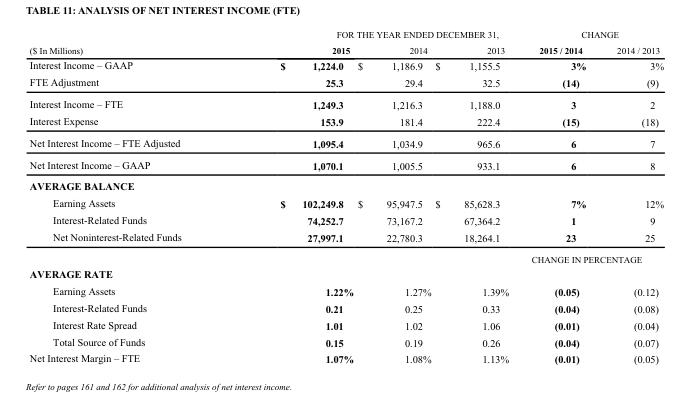table: (28, 28, 663, 364)
table column: (28, 28, 230, 364), (230, 28, 355, 364), (432, 28, 519, 364), (519, 28, 600, 364), (355, 28, 432, 364), (600, 28, 663, 364)
table column header: (28, 28, 663, 56)
table projected row header: (28, 175, 663, 194), (28, 265, 663, 282)
table row: (28, 131, 663, 153), (28, 153, 663, 175), (28, 92, 663, 112), (28, 228, 663, 248), (28, 73, 663, 92), (28, 112, 663, 131), (28, 175, 663, 194), (28, 56, 663, 73), (28, 194, 663, 211), (28, 211, 663, 228), (28, 248, 663, 265), (28, 265, 663, 282), (28, 282, 663, 299), (28, 299, 663, 316), (28, 316, 663, 333), (28, 333, 663, 350), (28, 41, 663, 56), (28, 350, 663, 364), (28, 28, 663, 41)
table spanning cell: (28, 28, 230, 56), (230, 28, 519, 41), (519, 248, 663, 265), (519, 28, 663, 41)
